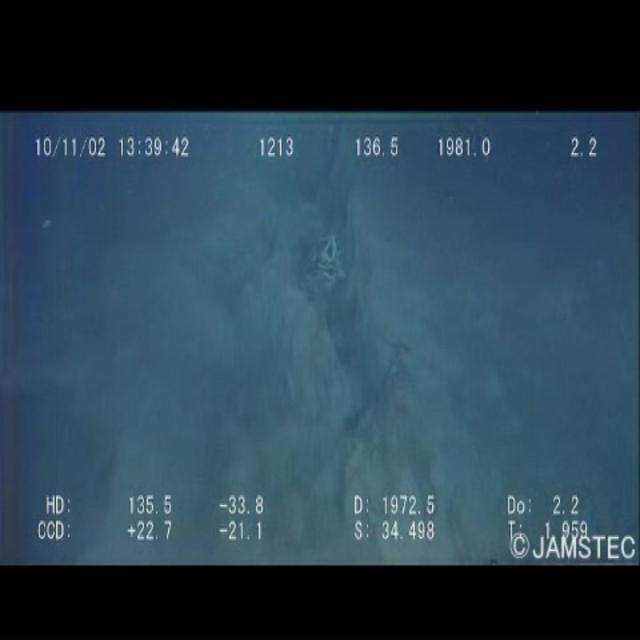Litter: (298, 230, 359, 322)
